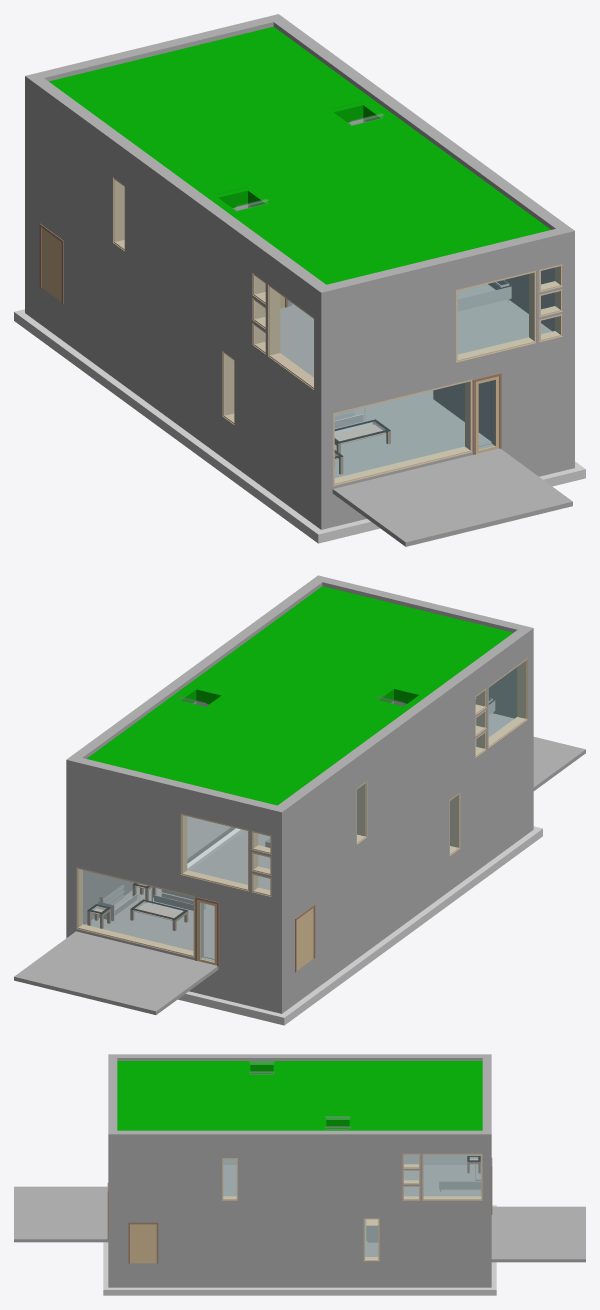
The model's file is Duplex_A_20110907_optimized.glb.
3 views of the same model, one above another, from view 1: azimuth 30°, elevation 25°; view 2: azimuth 150°, elevation 25°; view 3: azimuth 270°, elevation 25° (orthographic). The views are drawn at different scales.
Visible parts, largest first — view 1: product-ddaca082-9edd-4829-a689-a1a58a1761d2-body, product-9808fd7f-dc48-478e-9217-628e833d7af9-body, product-9808fd7f-dc48-478e-9217-628e833d5659-body, product-9808fd7f-dc48-478e-9217-628e833d5611-body, product-4c8d2570-3244-4e75-8237-a4372a40e878-body, product-9808fd7f-dc48-478e-9217-628e833d7d42-body, product-9808fd7f-dc48-478e-9217-628e833d4385-body, product-2da40d62-4698-436c-a2c3-95c49bb70d41-body, product-982f59b0-f2e1-485f-8ce1-c9f6117b7ef5-body, product-2da40d62-4698-436c-a2c3-95c49bb70ca4-body, product-2da40d62-4698-436c-a2c3-95c49bb70cfa-body, product-2e3c415a-d885-4964-a589-bb0941bdd177-body (+17 smaller); view 2: product-ddaca082-9edd-4829-a689-a1a58a1761d2-body, product-9808fd7f-dc48-478e-9217-628e833d7af9-body, product-9808fd7f-dc48-478e-9217-628e833d5659-body, product-9808fd7f-dc48-478e-9217-628e833d568d-body, product-4c8d2570-3244-4e75-8237-a4372a40e82b-body, product-9808fd7f-dc48-478e-9217-628e833d7df1-body, product-9808fd7f-dc48-478e-9217-628e833d4385-body, product-2da40d62-4698-436c-a2c3-95c49bb70d41-body, product-2da40d62-4698-436c-a2c3-95c49bb70c3c-body, product-2e3c415a-d885-4964-a589-bb0941bdd177-body, product-2da40d62-4698-436c-a2c3-95c49bb70cfa-body, product-982f59b0-f2e1-485f-8ce1-c9f6117b7a99-body (+17 smaller); view 3: product-ddaca082-9edd-4829-a689-a1a58a1761d2-body, product-9808fd7f-dc48-478e-9217-628e833d7d12-body, product-9808fd7f-dc48-478e-9217-628e833d56c9-body, product-9808fd7f-dc48-478e-9217-628e833d4257-body, product-2da40d62-4698-436c-a2c3-95c49bb70cfa-body, product-4c8d2570-3244-4e75-8237-a4372a40e82b-body, product-4c8d2570-3244-4e75-8237-a4372a40e878-body, product-2e3c415a-d885-4964-a589-bb0941bdd167-body, product-2da40d62-4698-436c-a2c3-95c49bb70d41-body, product-982f59b0-f2e1-485f-8ce1-c9f6117b7361-body, product-6b61ce71-1a7a-473c-8f87-4262e0bdb41a-body, product-2da40d62-4698-436c-a2c3-95c49bb70c3c-body (+6 smaller).
Boxes of the visible parts, x1=… form: product-ddaca082-9edd-4829-a689-a1a58a1761d2-body: x1=49, y1=26, x2=550, y2=284; product-9808fd7f-dc48-478e-9217-628e833d7af9-body: x1=32, y1=187, x2=314, y2=486; product-9808fd7f-dc48-478e-9217-628e833d5659-body: x1=25, y1=94, x2=321, y2=398; product-9808fd7f-dc48-478e-9217-628e833d5611-body: x1=321, y1=249, x2=574, y2=398; product-4c8d2570-3244-4e75-8237-a4372a40e878-body: x1=332, y1=448, x2=572, y2=546; product-9808fd7f-dc48-478e-9217-628e833d7d42-body: x1=314, y1=340, x2=562, y2=491; product-9808fd7f-dc48-478e-9217-628e833d4385-body: x1=32, y1=281, x2=314, y2=524; product-2da40d62-4698-436c-a2c3-95c49bb70d41-body: x1=32, y1=78, x2=325, y2=305; product-982f59b0-f2e1-485f-8ce1-c9f6117b7ef5-body: x1=334, y1=390, x2=491, y2=477; product-2da40d62-4698-436c-a2c3-95c49bb70ca4-body: x1=314, y1=229, x2=562, y2=310; product-2da40d62-4698-436c-a2c3-95c49bb70cfa-body: x1=273, y1=19, x2=574, y2=251; product-2e3c415a-d885-4964-a589-bb0941bdd177-body: x1=14, y1=309, x2=309, y2=532; product-ddaca082-9edd-4829-a689-a1a58a1761d2-body: x1=86, y1=586, x2=513, y2=805; product-9808fd7f-dc48-478e-9217-628e833d7af9-body: x1=287, y1=722, x2=527, y2=977; product-9808fd7f-dc48-478e-9217-628e833d5659-body: x1=282, y1=644, x2=533, y2=901; product-9808fd7f-dc48-478e-9217-628e833d568d-body: x1=66, y1=775, x2=281, y2=902; product-4c8d2570-3244-4e75-8237-a4372a40e82b-body: x1=14, y1=931, x2=218, y2=1014; product-9808fd7f-dc48-478e-9217-628e833d7df1-body: x1=66, y1=850, x2=287, y2=981; product-9808fd7f-dc48-478e-9217-628e833d4385-body: x1=287, y1=802, x2=527, y2=1009; product-2da40d62-4698-436c-a2c3-95c49bb70d41-body: x1=278, y1=630, x2=527, y2=823; product-2da40d62-4698-436c-a2c3-95c49bb70c3c-body: x1=66, y1=755, x2=287, y2=827; product-2e3c415a-d885-4964-a589-bb0941bdd177-body: x1=262, y1=836, x2=530, y2=1025; product-2da40d62-4698-436c-a2c3-95c49bb70cfa-body: x1=72, y1=575, x2=327, y2=758; product-982f59b0-f2e1-485f-8ce1-c9f6117b7a99-body: x1=85, y1=887, x2=214, y2=959; product-ddaca082-9edd-4829-a689-a1a58a1761d2-body: x1=117, y1=1061, x2=482, y2=1130; product-9808fd7f-dc48-478e-9217-628e833d7d12-body: x1=108, y1=1202, x2=482, y2=1263; product-9808fd7f-dc48-478e-9217-628e833d56c9-body: x1=108, y1=1146, x2=491, y2=1202; product-9808fd7f-dc48-478e-9217-628e833d4257-body: x1=108, y1=1263, x2=482, y2=1287; product-2da40d62-4698-436c-a2c3-95c49bb70cfa-body: x1=108, y1=1130, x2=482, y2=1146; product-4c8d2570-3244-4e75-8237-a4372a40e82b-body: x1=491, y1=1206, x2=585, y2=1262; product-4c8d2570-3244-4e75-8237-a4372a40e878-body: x1=14, y1=1186, x2=108, y2=1242; product-2e3c415a-d885-4964-a589-bb0941bdd167-body: x1=103, y1=1281, x2=496, y2=1295; product-2da40d62-4698-436c-a2c3-95c49bb70d41-body: x1=117, y1=1054, x2=482, y2=1060; product-982f59b0-f2e1-485f-8ce1-c9f6117b7361-body: x1=404, y1=1165, x2=481, y2=1196; product-6b61ce71-1a7a-473c-8f87-4262e0bdb41a-body: x1=128, y1=1222, x2=158, y2=1263; product-2da40d62-4698-436c-a2c3-95c49bb70c3c-body: x1=482, y1=1054, x2=491, y2=1146.
Bounding box in the file's own units: 9.28 × 8.18 × 26.57.
